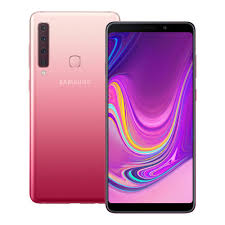samsung: (100, 16, 199, 217), (27, 7, 111, 203)
